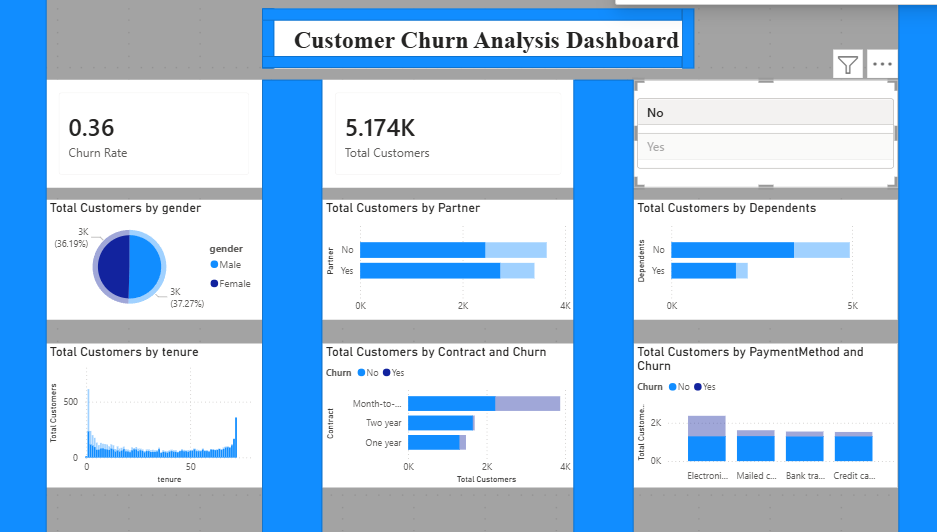

What the dashboard file says about the page in this screenshot:
{"tool":"powerbi","page":{"name":"Page 1","canvas":[1280,720],"ordinal":0},"visuals":[{"type":"shape","box":[16,0,1264,720],"z":0},{"type":"cardVisual","fields":{"Data":["telco.Churn Rate"]},"box":[80,112,288,144],"z":1000},{"type":"cardVisual","fields":{"Data":["telco.Total Customers"]},"box":[448,112,336,144],"z":2000},{"type":"pieChart","fields":{"Category":["telco.gender"],"Y":["telco.Total Customers"]},"box":[80,272,288,160],"z":3000},{"type":"barChart","fields":{"Category":["telco.Partner"],"Y":["telco.Total Customers"]},"box":[448,272,336,160],"z":4000},{"type":"clusteredBarChart","fields":{"Category":["telco.Dependents"],"Y":["telco.Total Customers"]},"box":[864,272,352,160],"z":5000},{"type":"columnChart","fields":{"Category":["telco.tenure"],"Y":["telco.Total Customers"]},"box":[80,464,288,192],"z":6000},{"type":"barChart","fields":{"Category":["telco.Contract"],"Y":["telco.Total Customers"],"Series":["telco.Churn"]},"box":[448,464,336,192],"z":7000},{"type":"columnChart","fields":{"Category":["telco.PaymentMethod"],"Y":["telco.Total Customers"],"Series":["telco.Churn"]},"box":[864,464,352,192],"z":8000},{"type":"textbox","box":[384,16,560,80],"z":9000},{"type":"shape","box":[368,16,16,80],"z":10000},{"type":"shape","box":[368,16,560,16],"z":11000},{"type":"shape","box":[368,80,560,16],"z":12000},{"type":"shape","box":[928,16,16,80],"z":13000},{"type":"cardVisual","fields":{"Rows":["telco.Churn"]},"box":[864,112,352,144],"z":14000},{"type":"shape","box":[368,112,80,608],"z":15000},{"type":"shape","box":[784,112,80,608],"z":16000},{"type":"shape","box":[1216,0,64,720],"z":17000},{"type":"shape","box":[16,0,64,720],"z":18000}]}

Visuals, with their boxes in screenshot pixels (x1, y1, x2, y2), scaled from the page's 1280x720 canvas onto the 937x532 screenshot:
shape: x1=12 y1=0 x2=936 y2=531
cardVisual - telco.Churn Rate: x1=59 y1=83 x2=269 y2=189
cardVisual - telco.Total Customers: x1=328 y1=83 x2=574 y2=189
pieChart - telco.gender x telco.Total Customers: x1=59 y1=201 x2=269 y2=319
barChart - telco.Partner x telco.Total Customers: x1=328 y1=201 x2=574 y2=319
clusteredBarChart - telco.Dependents x telco.Total Customers: x1=632 y1=201 x2=890 y2=319
columnChart - telco.tenure x telco.Total Customers: x1=59 y1=343 x2=269 y2=485
barChart - telco.Contract x telco.Total Customers: x1=328 y1=343 x2=574 y2=485
columnChart - telco.PaymentMethod x telco.Total Customers: x1=632 y1=343 x2=890 y2=485
textbox: x1=281 y1=12 x2=691 y2=71
shape: x1=269 y1=12 x2=281 y2=71
shape: x1=269 y1=12 x2=679 y2=24
shape: x1=269 y1=59 x2=679 y2=71
shape: x1=679 y1=12 x2=691 y2=71
cardVisual - telco.Churn: x1=632 y1=83 x2=890 y2=189
shape: x1=269 y1=83 x2=328 y2=531
shape: x1=574 y1=83 x2=632 y2=531
shape: x1=890 y1=0 x2=936 y2=531
shape: x1=12 y1=0 x2=59 y2=531
